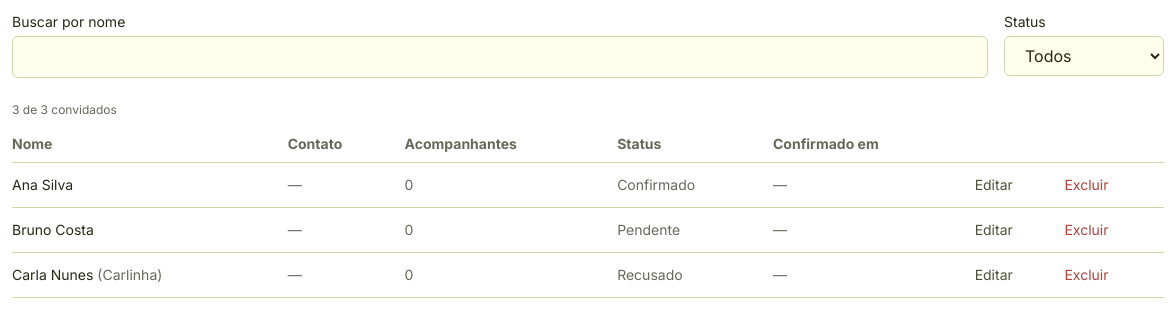
Scenario: GuestsTable › filters by name/nickname text
The image size is (1176, 315).
In the field labelled "Buscar por nome": (500, 57) 12,36 -> 988,78, type "carlinha"
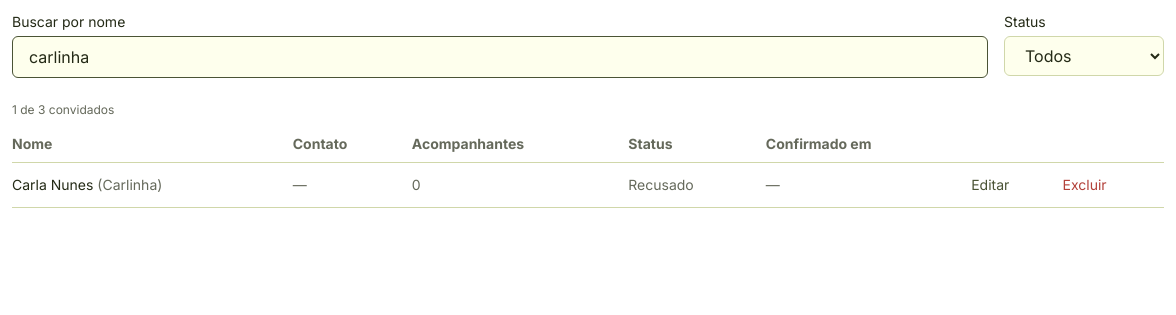
Expected: the link "Carla Nunes" is shown, 12,176 -> 93,193
Expected: the link "Ana Silva" is gone
